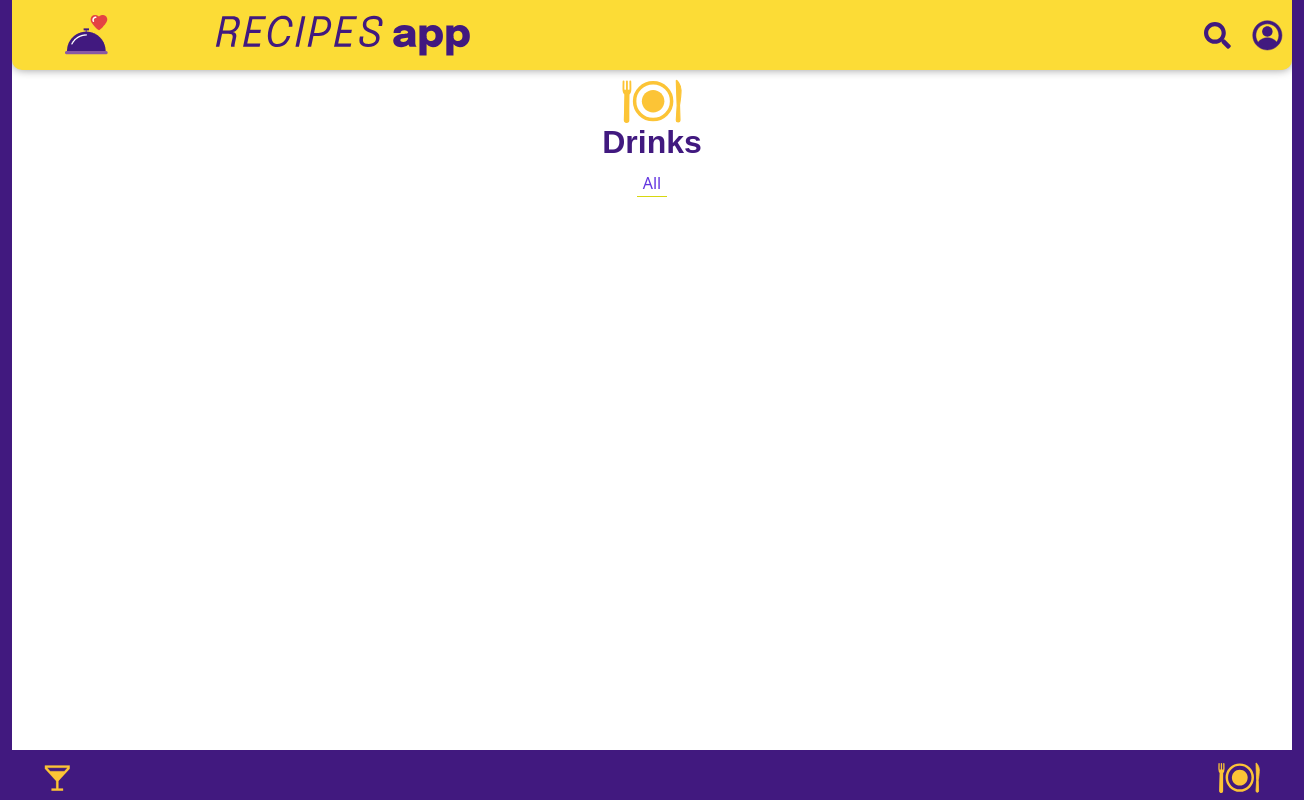
2.1 - Teste request ingredient › Teste se ao clicar no botão de busca a barra de busca é renderizada
This screenshot has width=1304, height=800.
What coordinates should you click on to do the following:
click the button with test id "search-top-btn"
I would click on:
 (1217, 35)
Its box is [1197,21,1237,49].
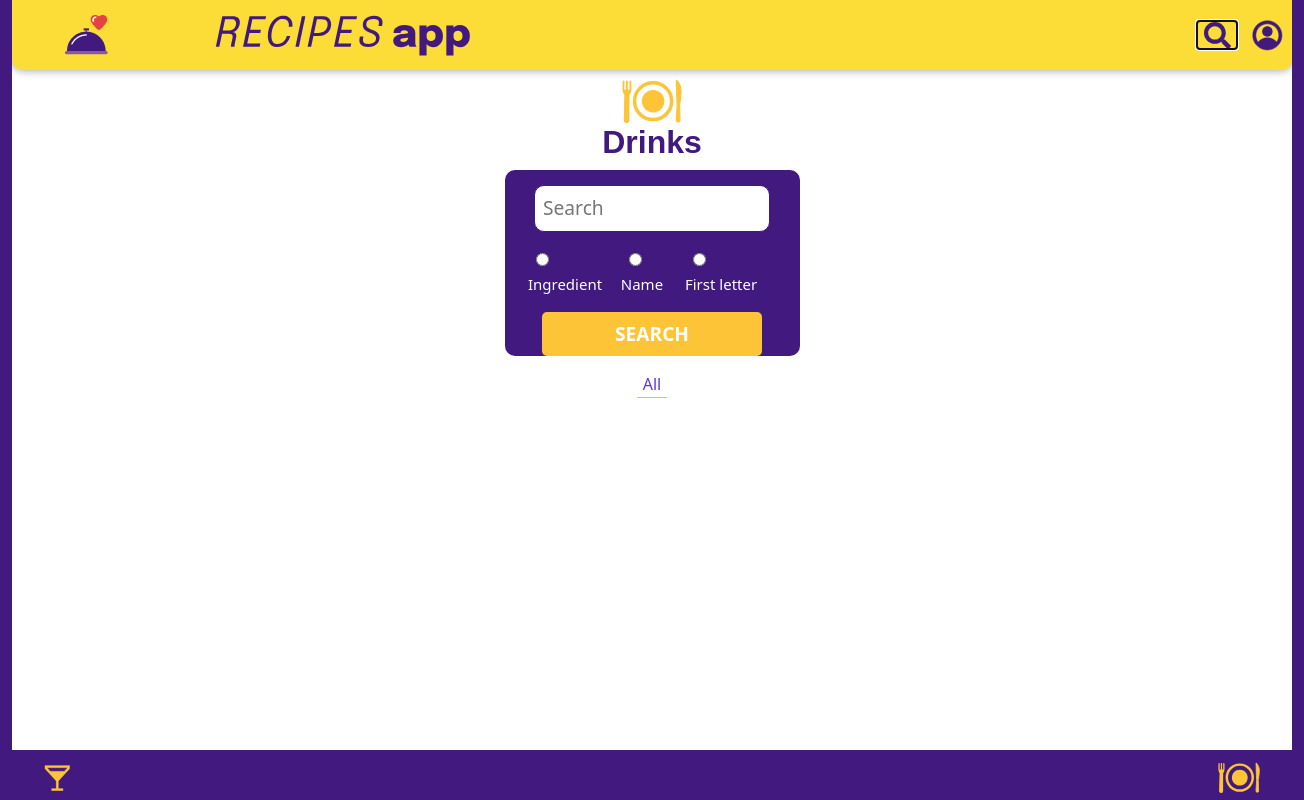
Check: the field with test id "search-input" is shown, box [534,185,770,232]
Check: the button with test id "exec-search-btn" is shown, box [542,312,762,356]
Check: the radio button with test id "ingredient-search-radio" is shown, box [536,252,549,266]
